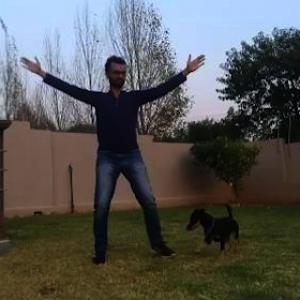takeoff: (19, 45, 194, 258)
